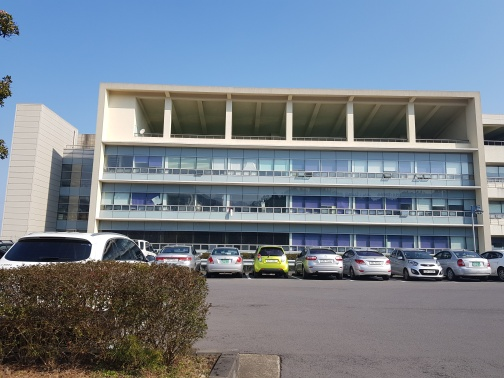Engineering College Building 4: (20, 73, 502, 234), (107, 84, 481, 235), (13, 102, 91, 232)
